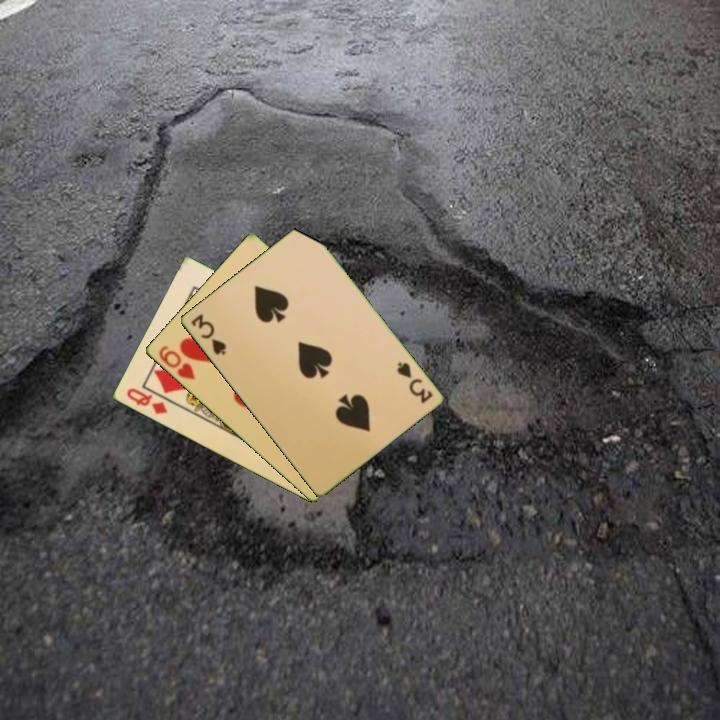3s: (187, 310, 229, 358), (393, 358, 435, 406)
6h: (155, 342, 198, 383)
Qd: (122, 384, 170, 417)
